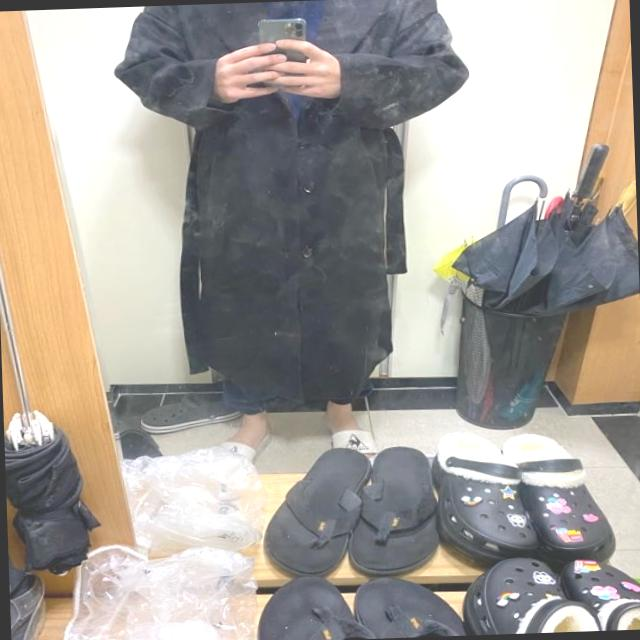coat: (107, 0, 480, 386)
